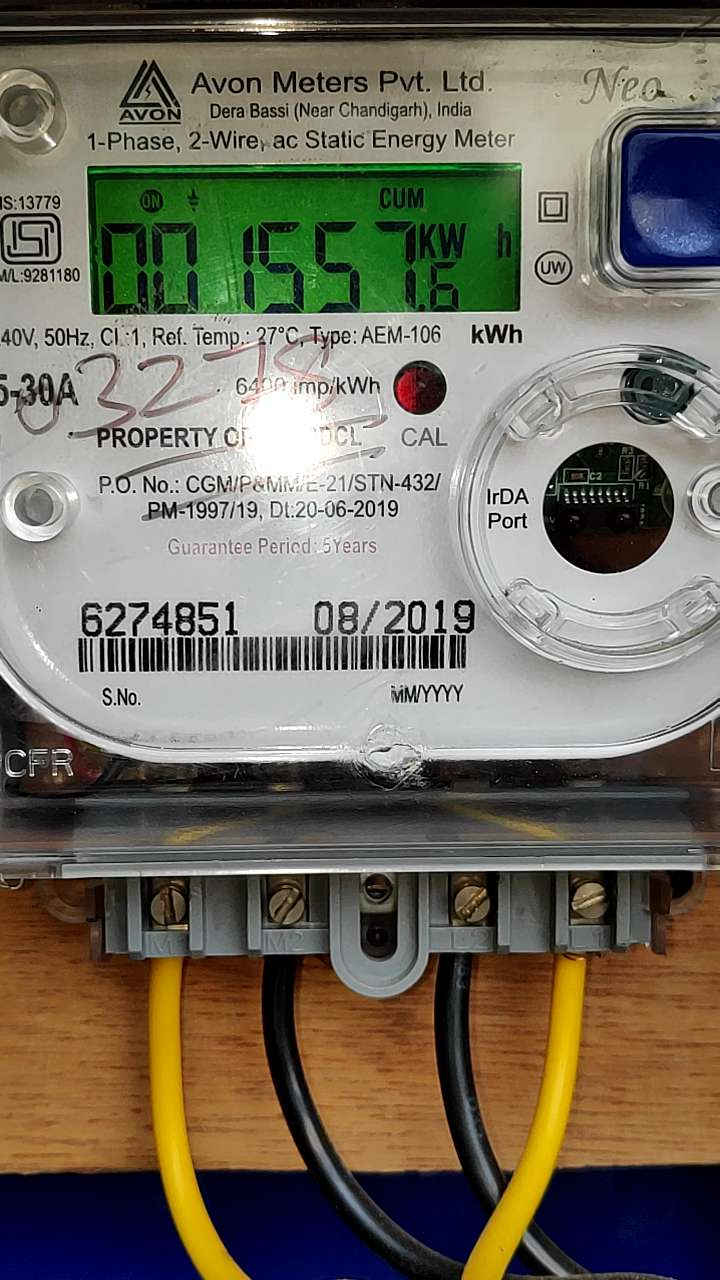meter_serial_number: (75, 595, 246, 637)
